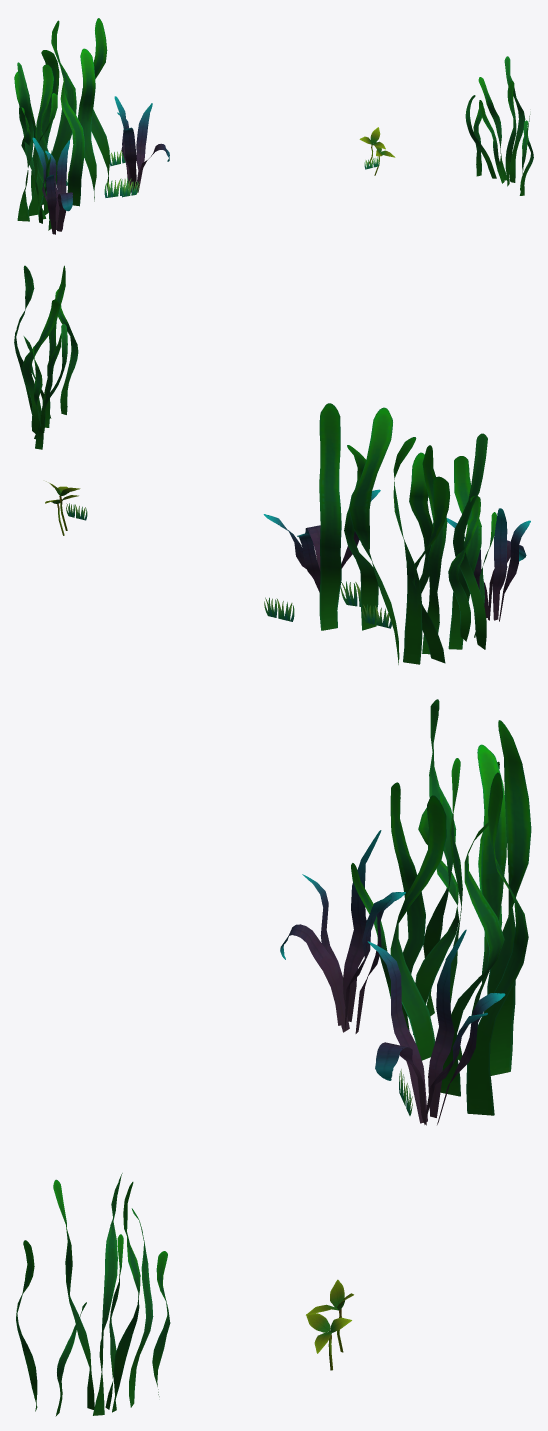
File: planted-aquarium-bank.glb
3 views of the same model, one above another, from view 1: azimuth 30°, elevation 25°; view 2: azimuth 150°, elevation 25°; view 3: azimuth 270°, elevation 25° (orthographic). The views are drawn at different scales.
Parts seen in each view (by area): view 1: pPlane209_0_1__mAquariumPlant; view 2: pPlane209_0_1__mAquariumPlant; view 3: pPlane209_0_1__mAquariumPlant.
Boxes of the visible parts, left/top/right/bottom form: pPlane209_0_1__mAquariumPlant: left=14, top=18, right=533, bottom=234; pPlane209_0_1__mAquariumPlant: left=14, top=265, right=530, bottom=664; pPlane209_0_1__mAquariumPlant: left=16, top=699, right=531, bottom=1416.
Size of the model in its own units: 1 by 0.4363 by 0.5252.
1 material, 1 textured.
